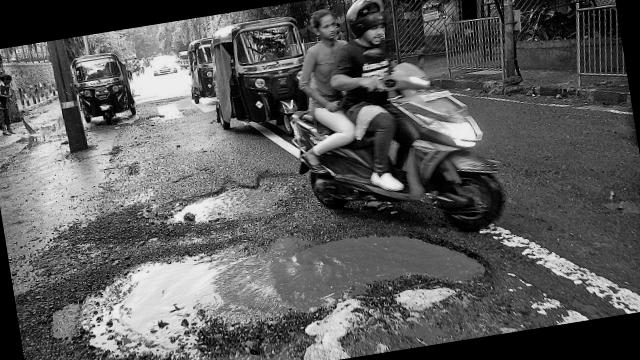Pothole: (54, 190, 512, 360), (156, 153, 325, 240)
